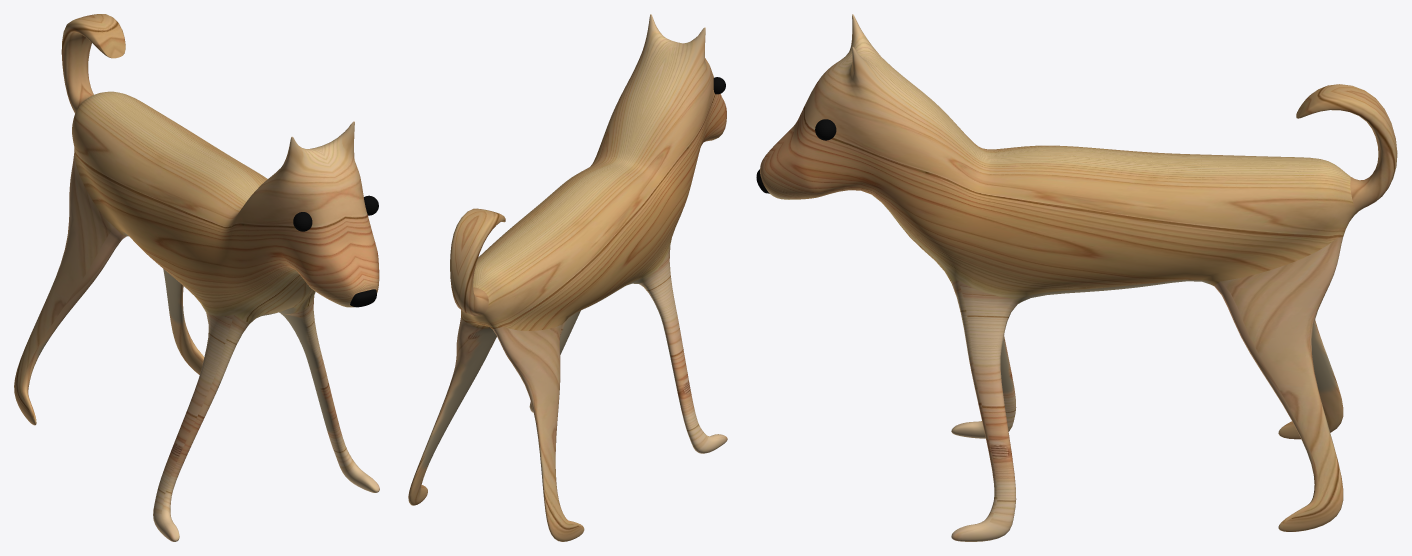
The model's file is NEWOPEN.glb.
3 renders of one model, left to right at view 1: azimuth 30°, elevation 25°; view 2: azimuth 150°, elevation 25°; view 3: azimuth 270°, elevation 25°, orthographic. The views are drawn at different scales.
Parts seen in each view (by area): view 1: Body, Eye; view 2: Body; view 3: Body.
Part boxes in pixels (<box>): Body: <box>14,14,379,541</box>; Eye: <box>293,195,378,231</box>; Body: <box>408,14,727,541</box>; Body: <box>756,14,1397,541</box>.
Bounding box in the file's own units: 4.87 × 9.46 × 11.98.
2 materials, 1 textured.
